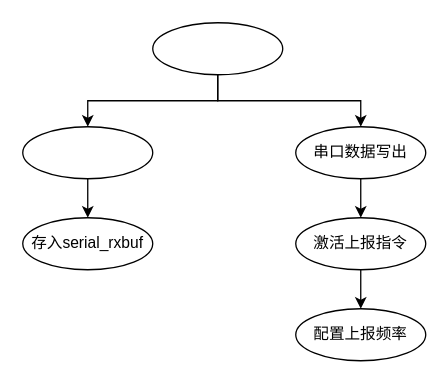
This 448x384 diagram has some shape labels left out. The shapes that lost their labels are listed below. From the top down, each one's centre as x and y in pixels, then its label:
(217,48): 启动串口
(87,152): 串口数据读入
